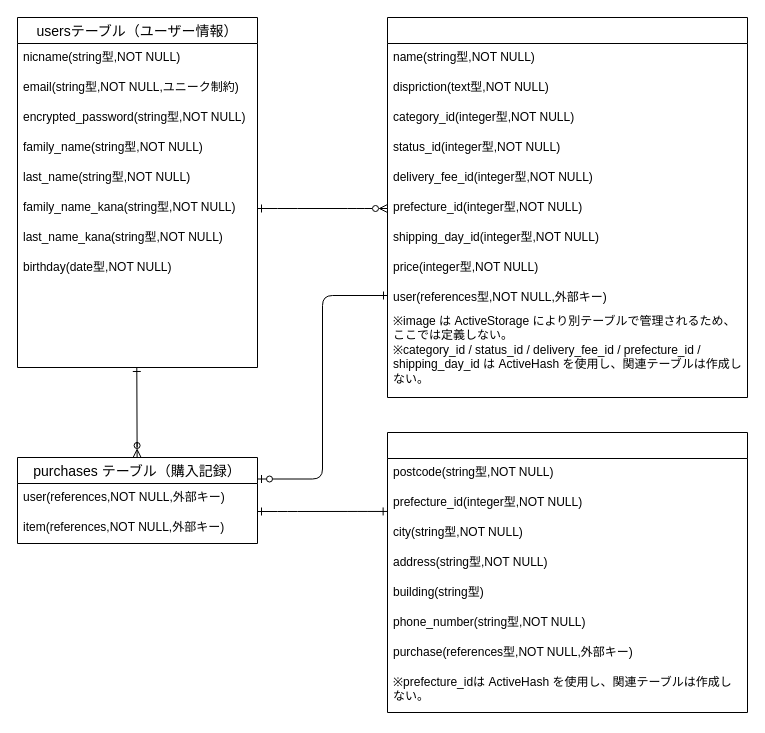
This 765x733 diagram has some shape labels left out. Each missing label, with the box of its shape:
addresses テーブル（発送先情報）: (386, 432, 748, 712)
items テーブル（商品情報）: (386, 16, 748, 398)
